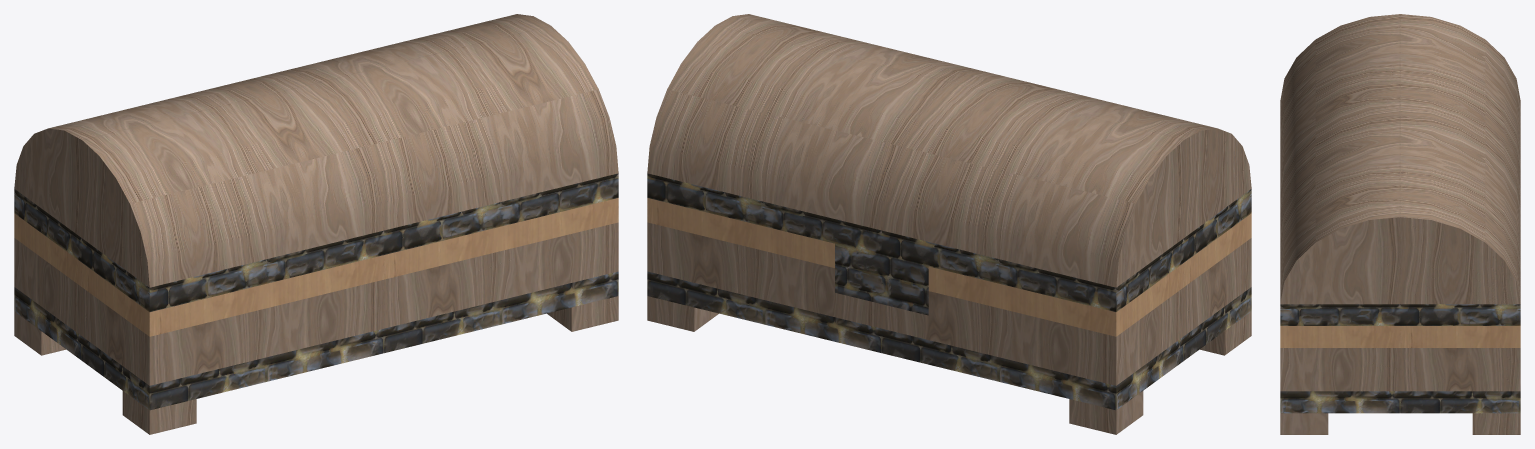
Rendered from StorageChest.obj.
3 renders of one model, left to right at view 1: azimuth 30°, elevation 25°; view 2: azimuth 150°, elevation 25°; view 3: azimuth 270°, elevation 25°, orthographic. The views are drawn at different scales.
Size of the model in its own units: 2 by 1 by 1.
3 materials, 3 textured.
